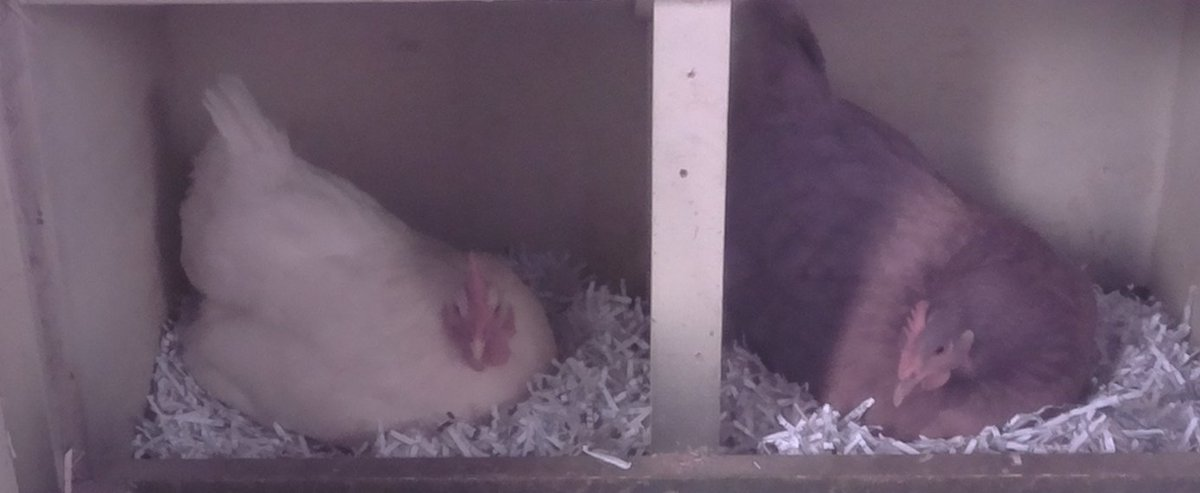hen: (731, 49, 1104, 449), (175, 137, 563, 441)
